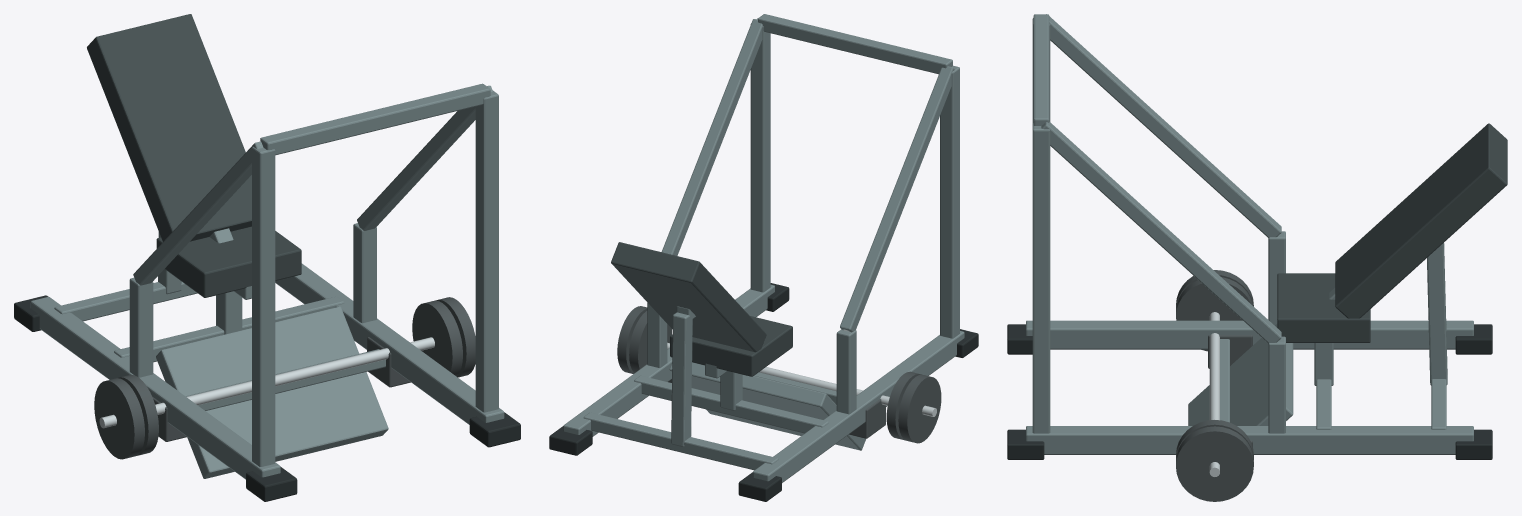
Rendered from leg-press.v1.glb.
3 views of the same model, side by side, from view 1: azimuth 30°, elevation 25°; view 2: azimuth 150°, elevation 25°; view 3: azimuth 270°, elevation 25° (orthographic). The views are drawn at different scales.
Parts seen in each view (by area): view 1: Backrest spine, Inclined back support, Foot sled, Sled carriage, Floor shoe, Plate axle; view 2: Backrest spine, Inclined back support, Sled carriage, Foot sled, Floor shoe, Plate axle; view 3: Backrest spine, Inclined back support, Sled carriage, Foot sled, Floor shoe, Plate axle.
Boxes of the visible parts, x1,y1,x2,y2 form: Backrest spine: (30,83,504,479); Inclined back support: (87,14,301,297); Foot sled: (156,306,388,478); Sled carriage: (94,297,475,459); Floor shoe: (14,295,520,501); Plate axle: (99,337,434,428); Backrest spine: (563,14,964,482); Inclined back support: (611,242,792,376); Sled carriage: (617,306,941,443); Foot sled: (669,362,865,450); Floor shoe: (549,283,978,501); Plate axle: (667,342,936,416); Backrest spine: (1026,14,1473,454); Inclined back support: (1277,123,1507,342); Sled carriage: (1176,270,1253,501); Foot sled: (1188,324,1293,425); Floor shoe: (1007,324,1492,459); Plate axle: (1209,312,1219,476).
Bounding box in the file's own units: 2.1 × 2.21 × 2.57.
